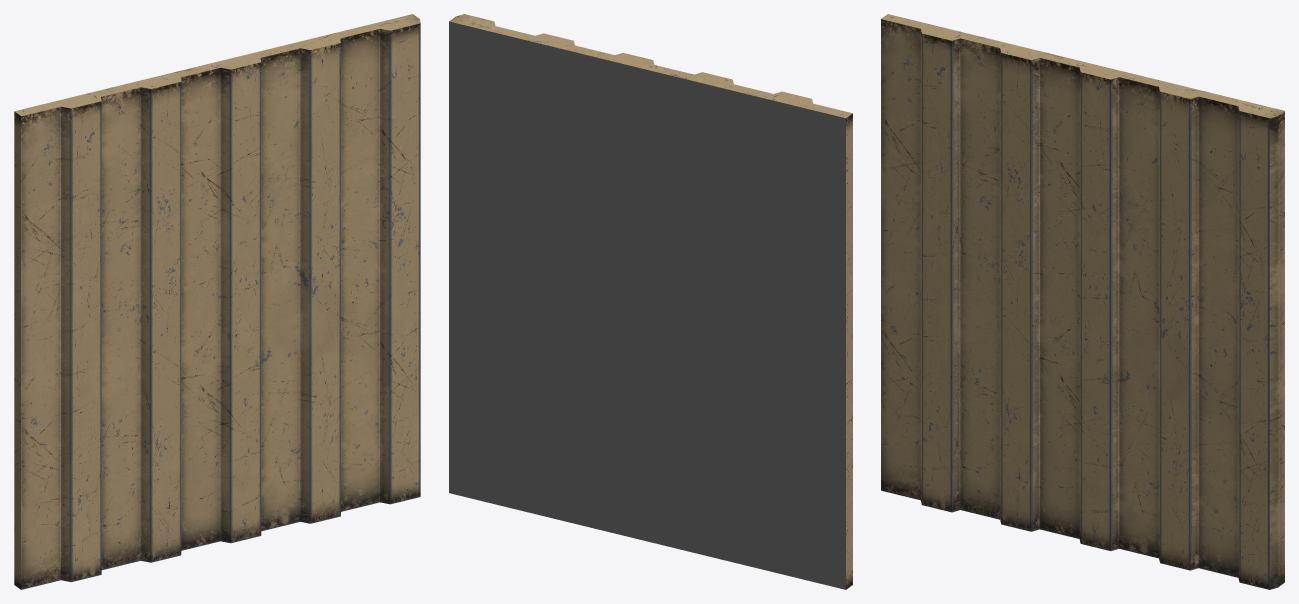
The model's file is CnWallIntA1.fbx.
3 views of the same model, side by side, from view 1: azimuth 30°, elevation 25°; view 2: azimuth 150°, elevation 25°; view 3: azimuth 330°, elevation 25° (orthographic).
Visible parts, largest first — view 1: CnWallIntA1; view 2: CnWallIntA1; view 3: CnWallIntA1.
Boxes of the visible parts, box(x1,y1,x2,y2) form: CnWallIntA1: box(14, 14, 420, 589); CnWallIntA1: box(449, 14, 852, 589); CnWallIntA1: box(881, 14, 1284, 589).
Size of the model in its own units: 200 by 227 by 10.
